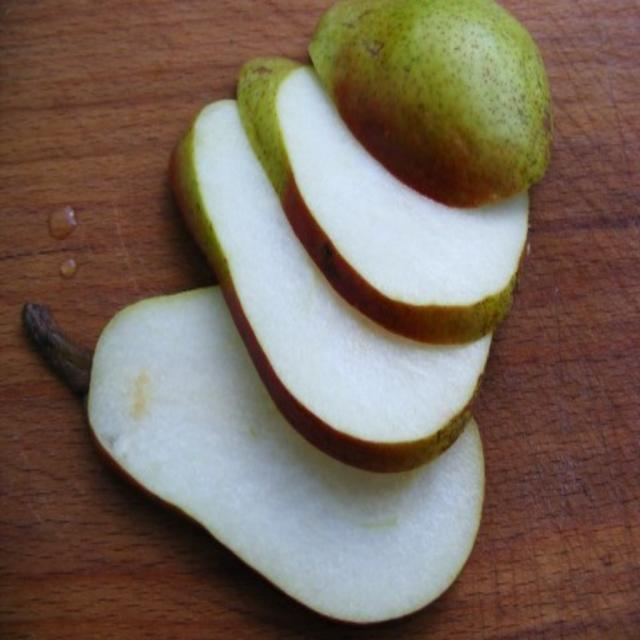Pear: (84, 290, 486, 628), (162, 96, 492, 472), (231, 52, 531, 346), (310, 2, 557, 206)
